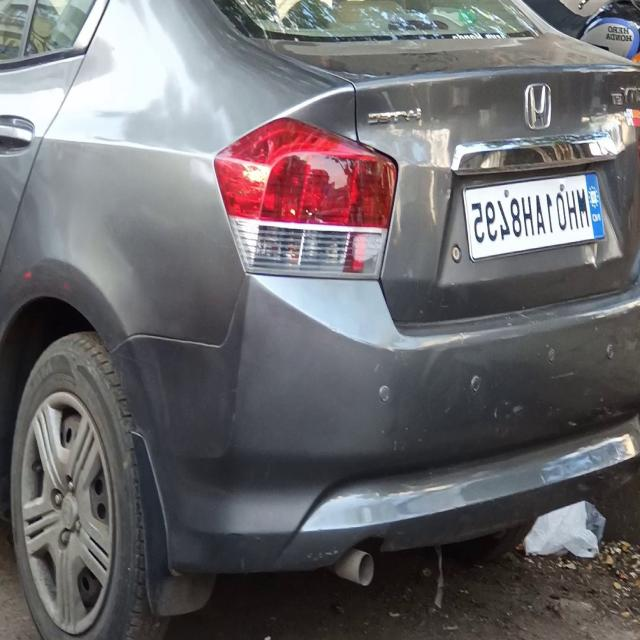license_plate: (460, 167, 608, 264)
